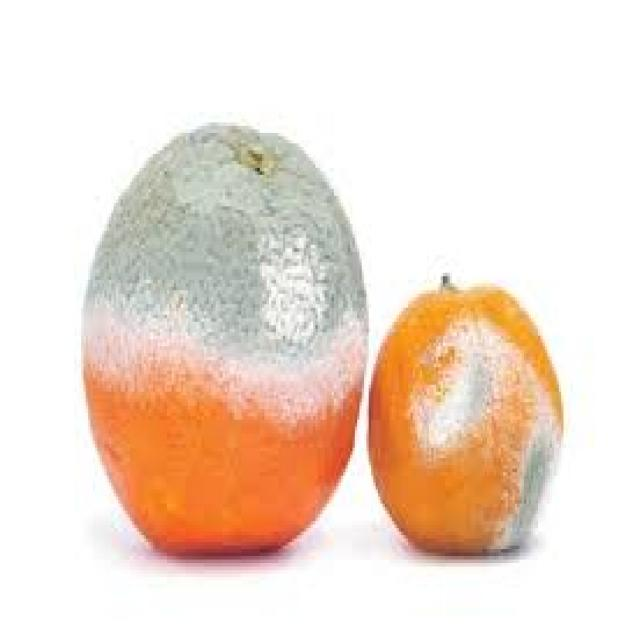organic waste: (79, 119, 364, 552), (366, 269, 559, 553)
